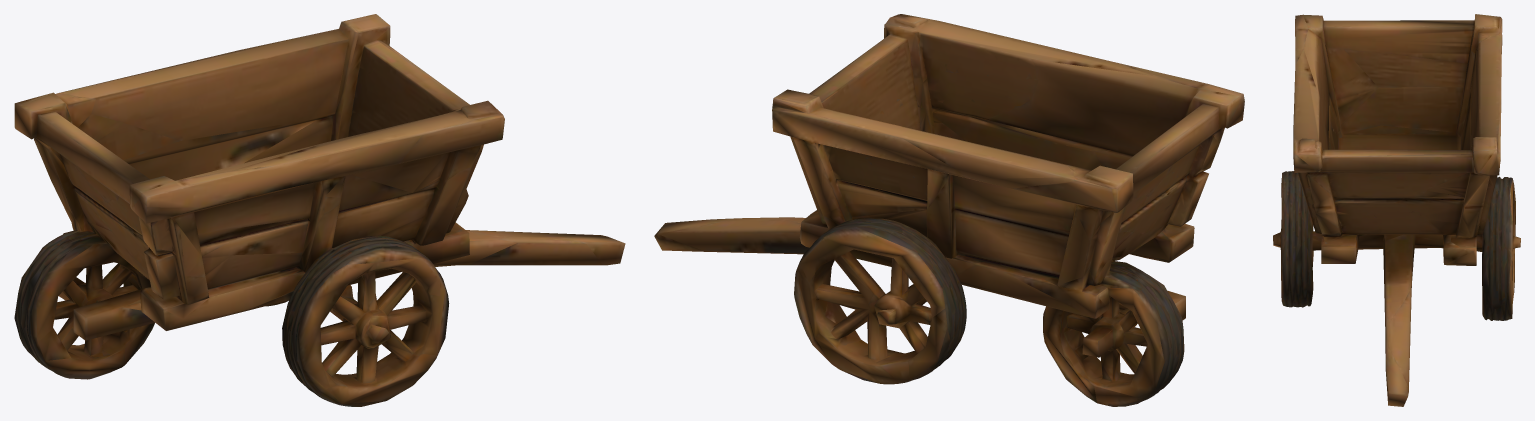
The model's file is log_handcart.glb.
3 renders of one model, left to right at view 1: azimuth 30°, elevation 25°; view 2: azimuth 150°, elevation 25°; view 3: azimuth 270°, elevation 25°, orthographic. The views are drawn at different scales.
Visible parts, largest first — view 1: node_0; view 2: node_0; view 3: node_0.
Boxes of the visible parts, bbox=[...] form: node_0: bbox=[14, 14, 625, 406]; node_0: bbox=[654, 14, 1244, 406]; node_0: bbox=[1273, 14, 1520, 406].
Size of the model in its own units: 1.11 by 0.4908 by 0.5387.
1 material, 1 textured.
